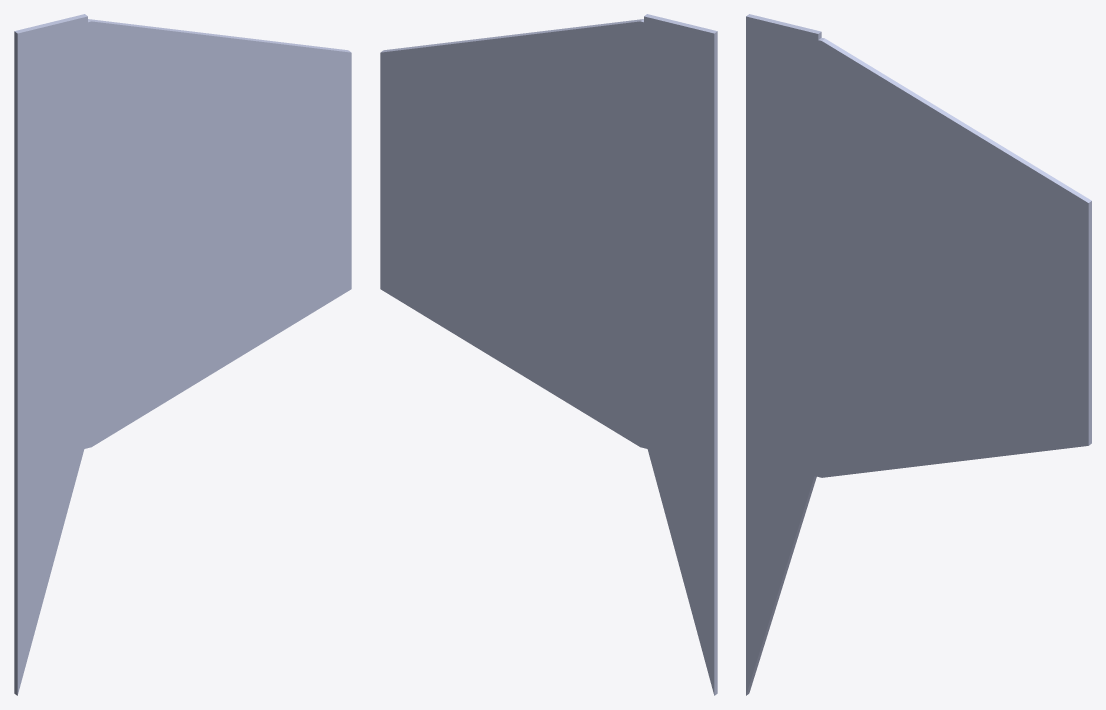
The model's file is subscale_fin_v1.obj.
3 renders of one model, left to right at view 1: azimuth 30°, elevation 25°; view 2: azimuth 150°, elevation 25°; view 3: azimuth 330°, elevation 25°, orthographic. The views are drawn at different scales.
Parts seen in each view (by area): view 1: mesh_1_subscale.001; view 2: mesh_1_subscale.001; view 3: mesh_1_subscale.001.
Part boxes in pixels (x1,y1,x2,y2): mesh_1_subscale.001: (14, 14, 351, 695); mesh_1_subscale.001: (380, 14, 717, 695); mesh_1_subscale.001: (746, 14, 1091, 695).
Bounding box in the file's own units: 0.1876 × 0.3556 × 0.00318.
